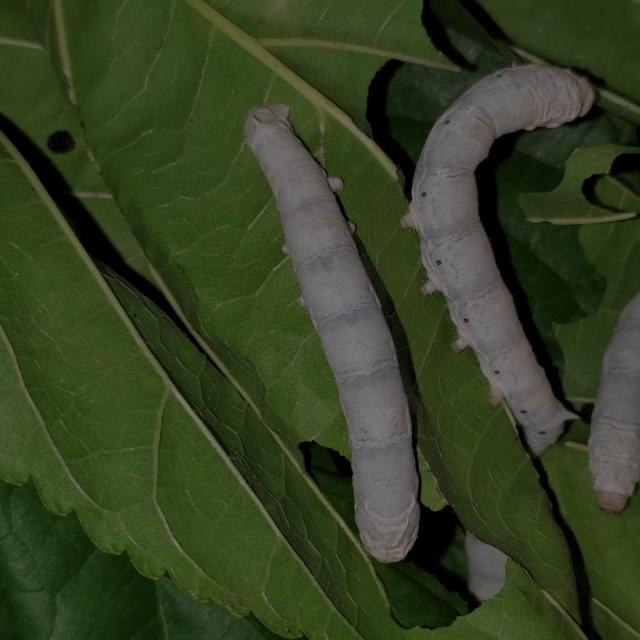Healthy: (225, 37, 640, 614)
